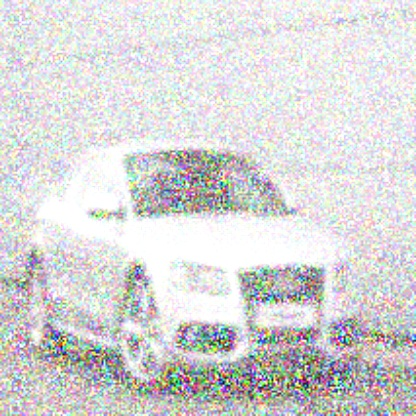Vehicle: (23, 136, 366, 398)
